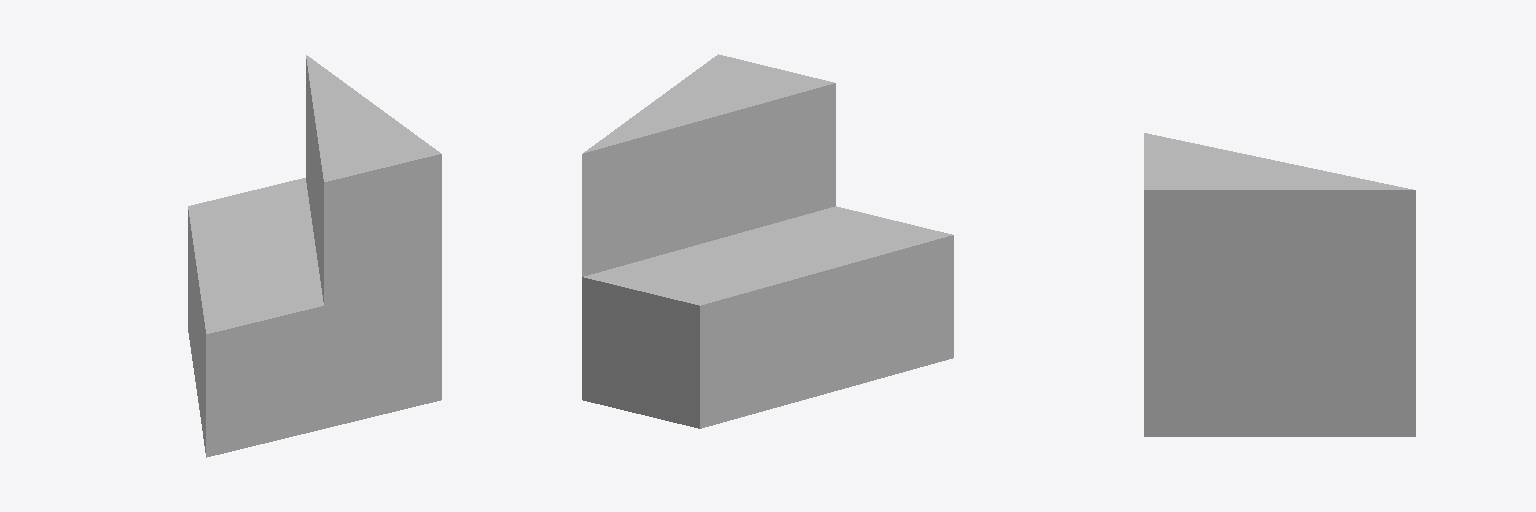
Rendered from diagsteps_13.obj.
The picture shows the model from 3 angles: view 1: azimuth 30°, elevation 25°; view 2: azimuth 150°, elevation 25°; view 3: azimuth 270°, elevation 25°; orthographic projection.
Size of the model in its own units: 1 by 1 by 1.